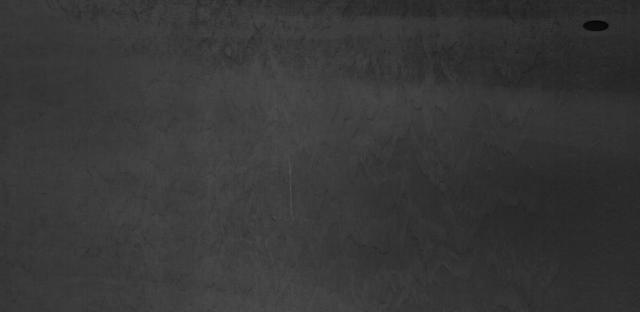punching_hole: (579, 16, 613, 35)
silk_spot: (329, 9, 559, 301), (94, 10, 320, 300)
